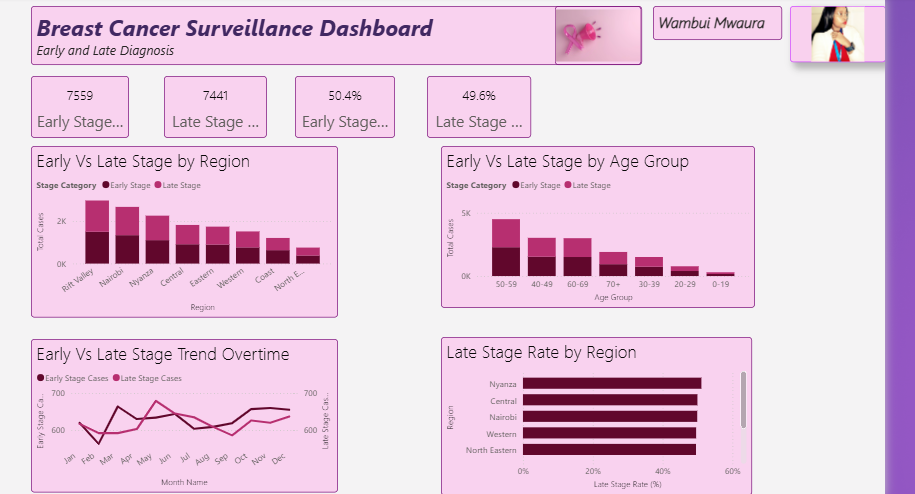

The page's visual inventory and layout, read from the dashboard file:
{"tool":"powerbi","page":{"name":"Early Vs Late Diagmosis","canvas":[1280,720],"ordinal":1},"visuals":[{"type":"columnChart","title":"Early Vs Late Stage by Region","fields":{"Category":["Dim_Geography.Region"],"Y":["Date Table.Total Cases"],"Series":["Fact_BreastCancer.Stage Category"]},"box":[48.3,215.1,442,247.3],"z":0},{"type":"columnChart","title":"Early Vs Late Stage by Age Group","fields":{"Category":["Dim_Patient.Age Group"],"Y":["Date Table.Total Cases"],"Series":["Fact_BreastCancer.Stage Category"]},"box":[639.4,214.6,452.2,233.3],"z":1000},{"type":"lineChart","title":"Early Vs Late Stage Trend Overtime","fields":{"Category":["Date Table.Month Name"],"Y":["Date Table.Early Stage Cases"],"Y2":["Date Table.Late Stage Cases"]},"box":[48.3,493.2,442,221],"z":2000},{"type":"clusteredBarChart","title":" Late Stage Rate by Region","fields":{"Category":["Dim_Geography.Region"],"Y":["Date Table.Late Stage Rate (%)"]},"box":[639.4,489.6,447.8,227.5],"z":3000},{"type":"card","fields":{"Values":["Date Table.Early Stage Cases"]},"box":[49,113.8,141.1,89.3],"z":4000},{"type":"card","fields":{"Values":["Date Table.Late Stage Cases"]},"box":[240.5,113.8,148.3,89.3],"z":5000},{"type":"card","fields":{"Values":["Date Table.Early Stage Rate (%)"]},"box":[429.1,113.8,144,89.3],"z":6000},{"type":"card","fields":{"Values":["Date Table.Late Stage Rate (%)"]},"box":[619.2,113.8,149.8,89.3],"z":7000},{"type":"textbox","box":[49,13,879.8,85],"z":7001},{"type":"image","box":[803.5,13,123.8,85],"z":7002},{"type":"textbox","box":[944.6,13,185.8,49],"z":7003},{"type":"image","box":[1141.9,13,138.2,80.6],"z":7004}]}

Visuals, with their boxes on the page's 1280x720 design canvas (x1, y1, x2, y2). These are canvas units, not pixel positions in the 915x494 screenshot, which may show the page scaled, cropped or inside an application window:
"Early Vs Late Stage by Region" columnChart: [left=48, top=215, right=490, bottom=462]
"Early Vs Late Stage by Age Group" columnChart: [left=639, top=215, right=1092, bottom=448]
"Early Vs Late Stage Trend Overtime" lineChart: [left=48, top=493, right=490, bottom=714]
" Late Stage Rate by Region" clusteredBarChart: [left=639, top=490, right=1087, bottom=717]
card - Date Table.Early Stage Cases: [left=49, top=114, right=190, bottom=203]
card - Date Table.Late Stage Cases: [left=240, top=114, right=389, bottom=203]
card - Date Table.Early Stage Rate (%): [left=429, top=114, right=573, bottom=203]
card - Date Table.Late Stage Rate (%): [left=619, top=114, right=769, bottom=203]
textbox: [left=49, top=13, right=929, bottom=98]
image: [left=804, top=13, right=927, bottom=98]
textbox: [left=945, top=13, right=1130, bottom=62]
image: [left=1142, top=13, right=1280, bottom=94]
